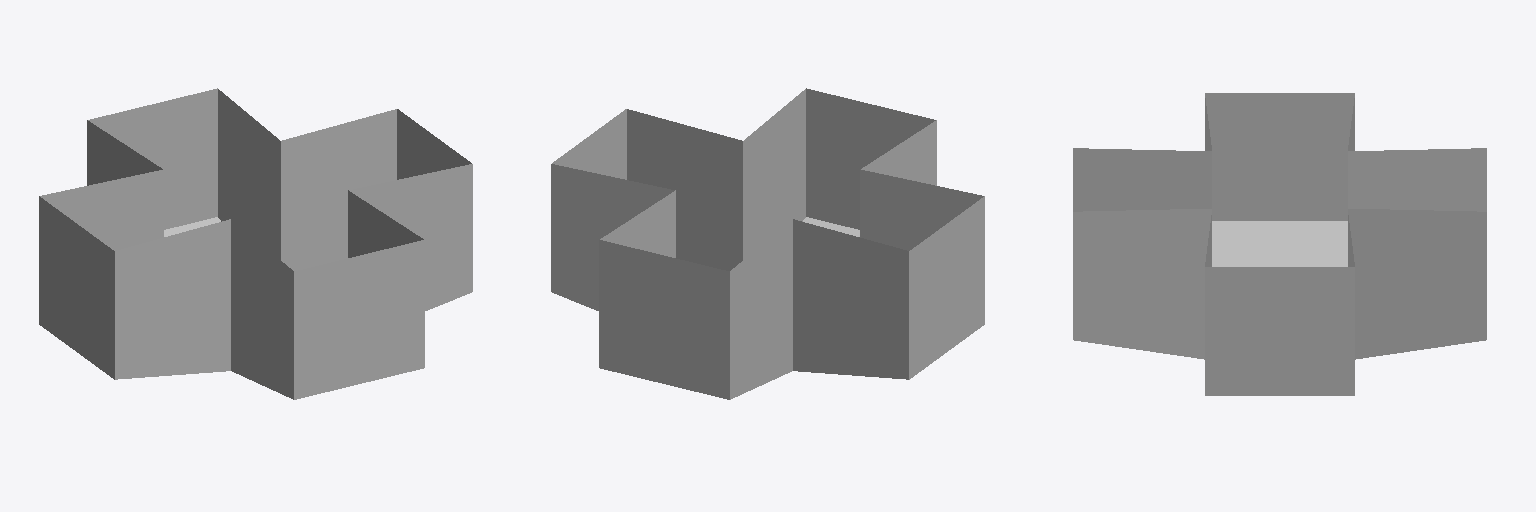
Rendered from Cross_cube_bottle_ext_preprocessed.obj.
3 views of the same model, side by side, from view 1: azimuth 30°, elevation 25°; view 2: azimuth 150°, elevation 25°; view 3: azimuth 270°, elevation 25° (orthographic).
Size of the model in its own units: 0.0616 by 0.025 by 0.0616.